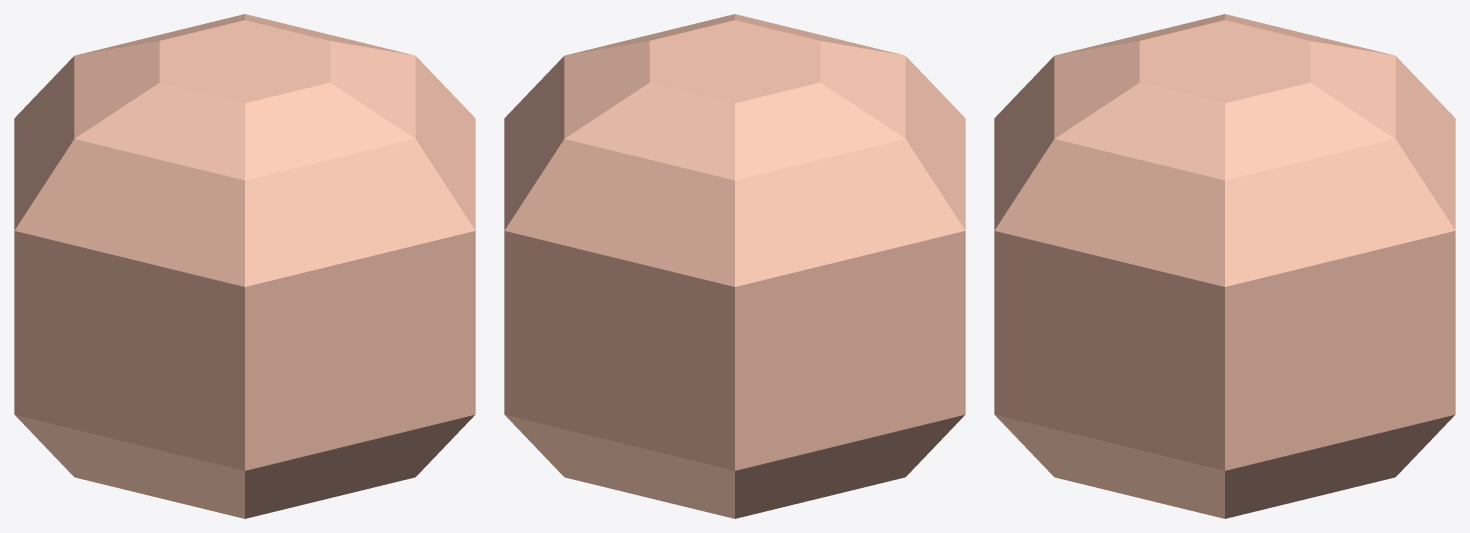
Rendered from meteor.glb.
3 renders of one model, left to right at view 1: azimuth 30°, elevation 25°; view 2: azimuth 150°, elevation 25°; view 3: azimuth 270°, elevation 25°, orthographic.
Parts seen in each view (by area): view 1: meteor; view 2: meteor; view 3: meteor.
Part boxes in pixels (bbox=[...]): meteor: bbox=[14, 14, 475, 518]; meteor: bbox=[504, 14, 965, 518]; meteor: bbox=[994, 14, 1455, 518].
Bounding box in the file's own units: 1.22 × 1.03 × 1.05.
